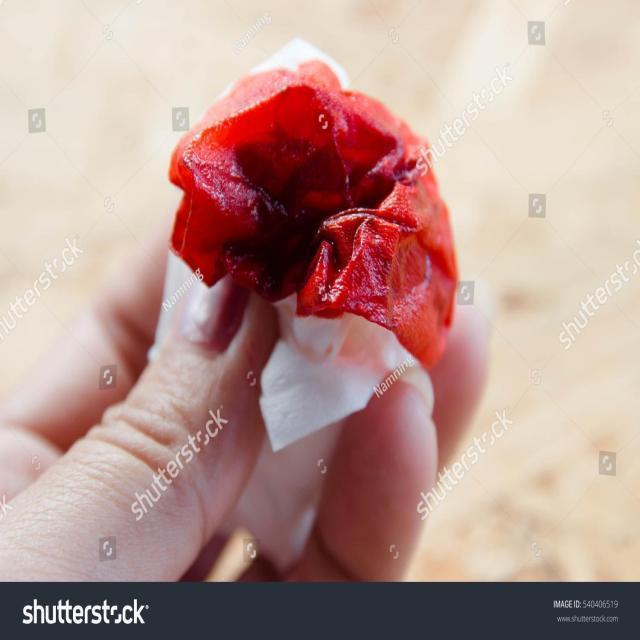flood: (181, 84, 452, 362)
